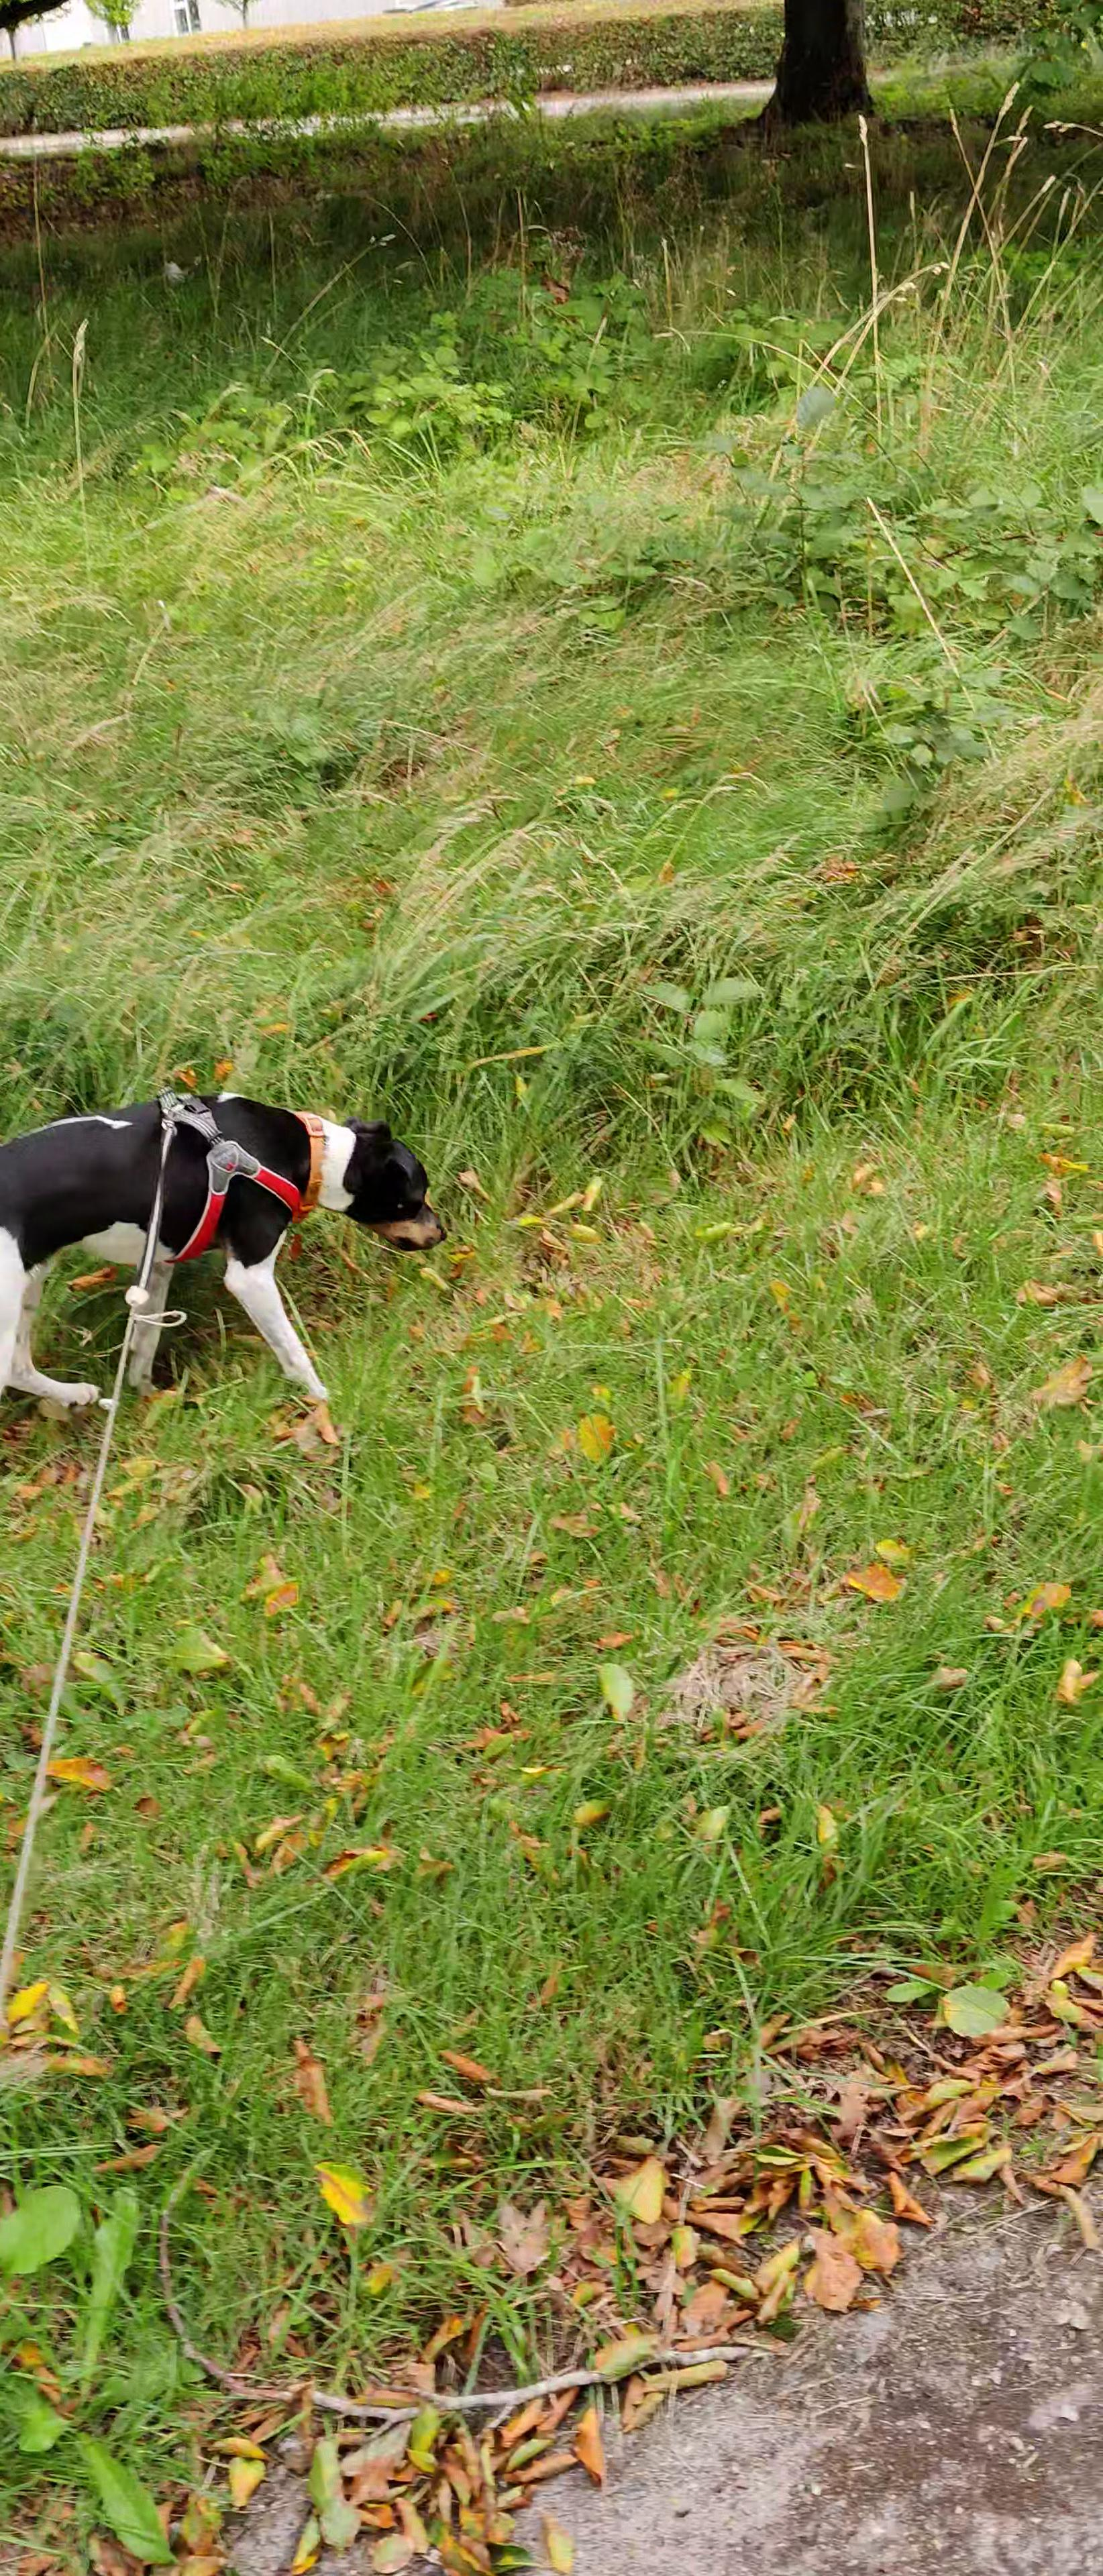Dog: (0, 1048, 490, 1442)
